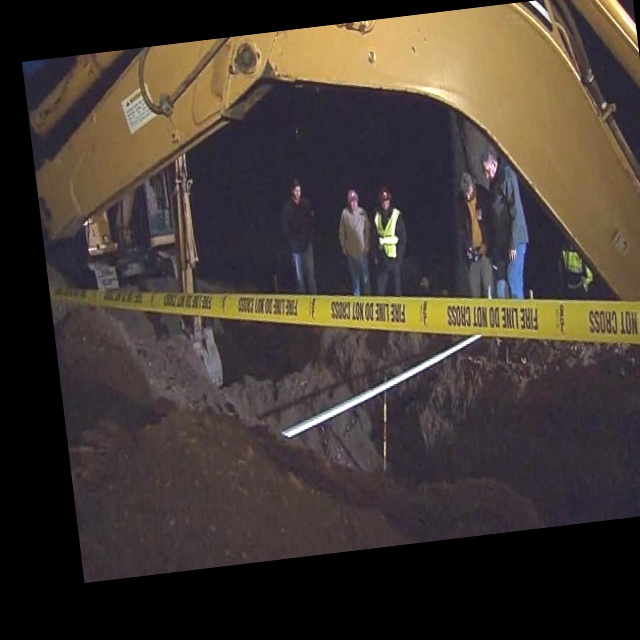Con_Chaleco: (372, 207, 404, 260)
